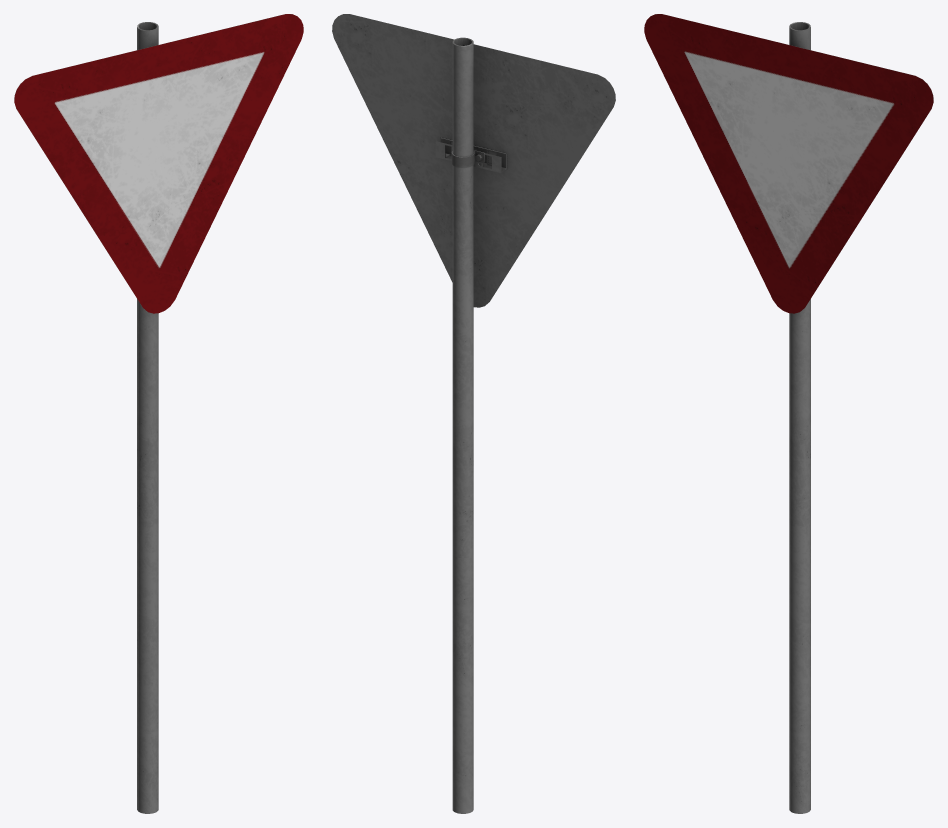
Rendered from signYield.obj.
3 views of the same model, side by side, from view 1: azimuth 30°, elevation 25°; view 2: azimuth 150°, elevation 25°; view 3: azimuth 330°, elevation 25° (orthographic). The views are drawn at different scales.
Parts seen in each view (by area): view 1: signYield_Cylinder.003; view 2: signYield_Cylinder.003; view 3: signYield_Cylinder.003.
Boxes of the visible parts, x1,y1,x2,y2 form: signYield_Cylinder.003: (14,14,303,813); signYield_Cylinder.003: (332,14,615,813); signYield_Cylinder.003: (644,14,933,813).
Size of the model in its own units: 1.93 by 5 by 0.1976.
1 material, 1 textured.
